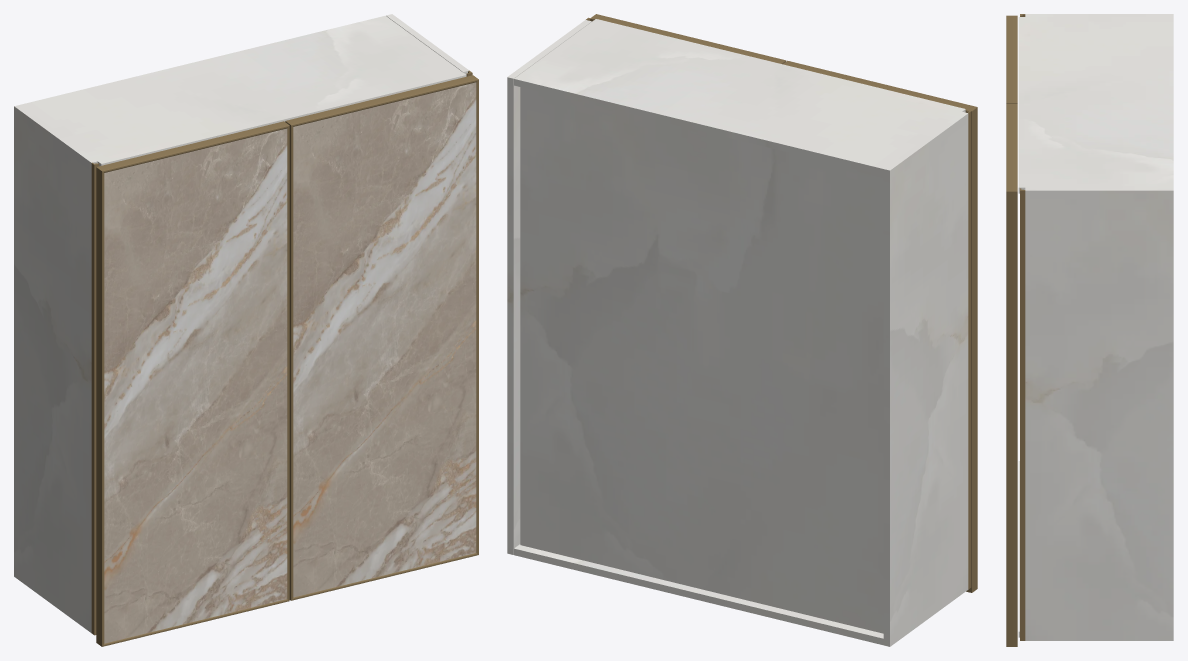
File: WC-SH-NHX-ST-3SG-2HS-XXX-900-1085-336-15.glb
The picture shows the model from 3 angles, left to right: view 1: azimuth 30°, elevation 25°; view 2: azimuth 150°, elevation 25°; view 3: azimuth 270°, elevation 25°; orthographic projection. The views are drawn at different scales.
Parts seen in each view (by area): view 1: Object_node_10, Object_node_12, TP_node_0, TP, Extrusion_node_1, Object_node_14, Extrusion_node_5, Extrusion, Extrusion_node_2, Extrusion_node, Extrusion_node_3; view 2: TP_node_2, TP_node_0, TP, TP_node_1, TP_node, Extrusion_node_1, Object_node_14, Extrusion, Extrusion_node_2; view 3: TP_node_1, TP, Extrusion_node_3, Object_node_20, Extrusion, Extrusion_node_2, TP_node_0, TP_node.
Boxes of the visible parts, bbox=[...] form: Object_node_10: bbox=[104, 128, 287, 643]; Object_node_12: bbox=[293, 82, 476, 597]; TP_node_0: bbox=[14, 104, 97, 632]; TP: bbox=[21, 15, 466, 166]; Extrusion_node_1: bbox=[96, 167, 104, 646]; Object_node_14: bbox=[91, 162, 99, 635]; Extrusion_node_5: bbox=[285, 121, 293, 600]; Extrusion: bbox=[96, 121, 289, 172]; Extrusion_node_2: bbox=[286, 75, 478, 126]; Extrusion_node: bbox=[287, 126, 289, 600]; Extrusion_node_3: bbox=[476, 80, 478, 554]; TP_node_2: bbox=[520, 87, 883, 633]; TP_node_0: bbox=[883, 111, 968, 646]; TP: bbox=[514, 19, 965, 175]; TP_node_1: bbox=[507, 20, 591, 554]; TP_node: bbox=[514, 544, 883, 645]; Extrusion_node_1: bbox=[969, 107, 977, 592]; Object_node_14: bbox=[965, 110, 971, 589]; Extrusion: bbox=[783, 60, 977, 111]; Extrusion_node_2: bbox=[591, 14, 785, 63]; TP_node_1: bbox=[1025, 187, 1173, 640]; TP: bbox=[1018, 17, 1173, 193]; Extrusion_node_3: bbox=[1006, 191, 1017, 646]; Object_node_20: bbox=[1020, 188, 1025, 640]; Extrusion: bbox=[1006, 15, 1017, 103]; Extrusion_node_2: bbox=[1006, 104, 1017, 191]; TP_node_0: bbox=[1025, 14, 1173, 16]; TP_node: bbox=[1018, 461, 1019, 637].
Size of what is drawn, in the model's own units: 0.9 by 1.09 by 0.3602.
6 materials, 2 textured.
